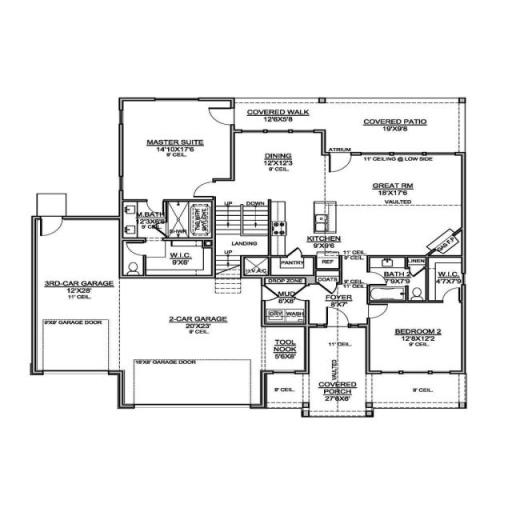Room: (126, 105, 222, 189)
bathroom: (368, 254, 431, 305), (130, 190, 172, 240)
bedroom: (372, 306, 458, 370)
garage: (120, 279, 271, 400), (43, 220, 114, 382)
hall: (339, 156, 454, 250)
kitchen: (246, 136, 336, 252)
porch: (315, 331, 364, 420)
